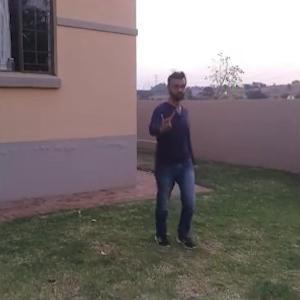takeoff-hand: (154, 105, 177, 134)
